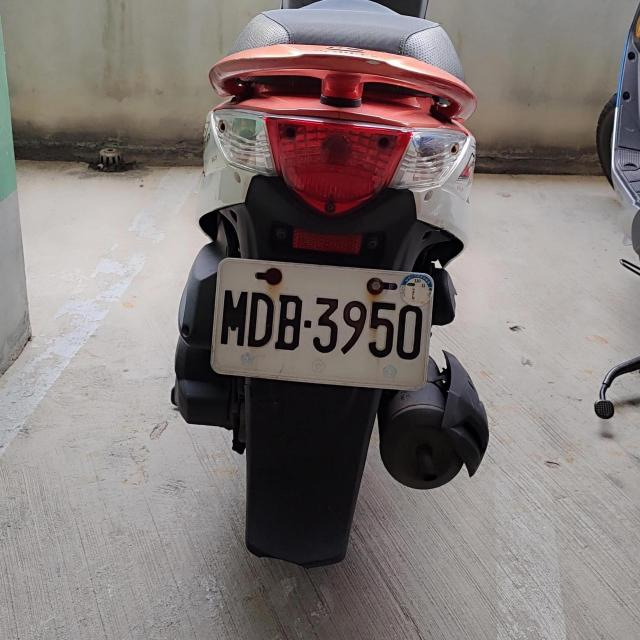W: (209, 257, 435, 388)
